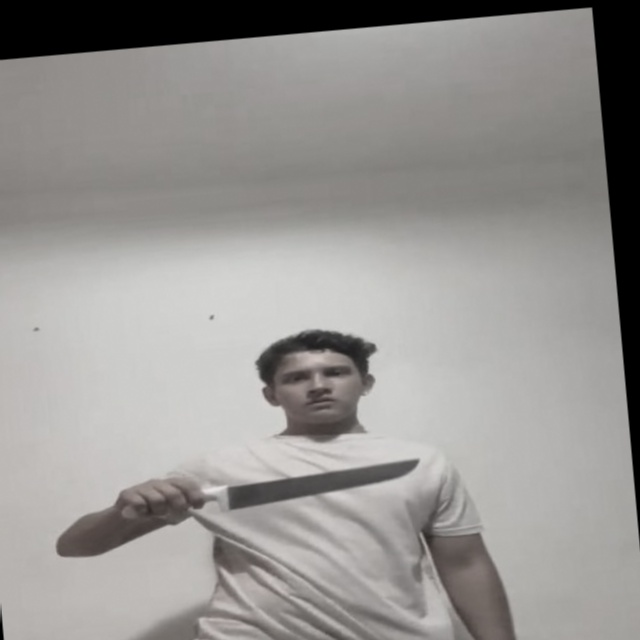Sharp-Object: (225, 451, 422, 513)
